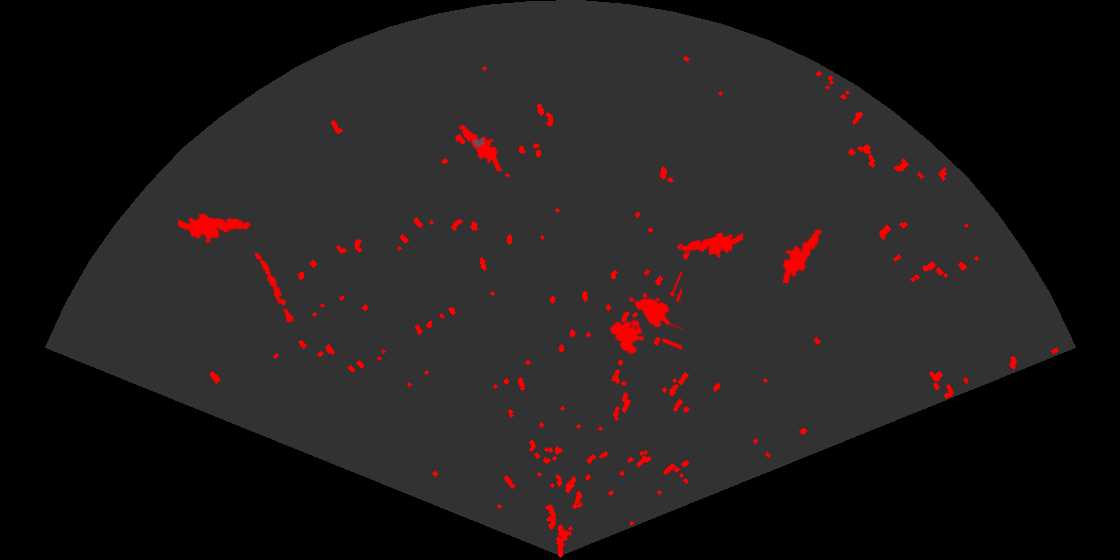cage: (608, 272, 682, 357)
chain: (253, 250, 296, 327)
frogman: (455, 113, 504, 171), (178, 212, 253, 245), (780, 227, 823, 283), (679, 231, 743, 260)
